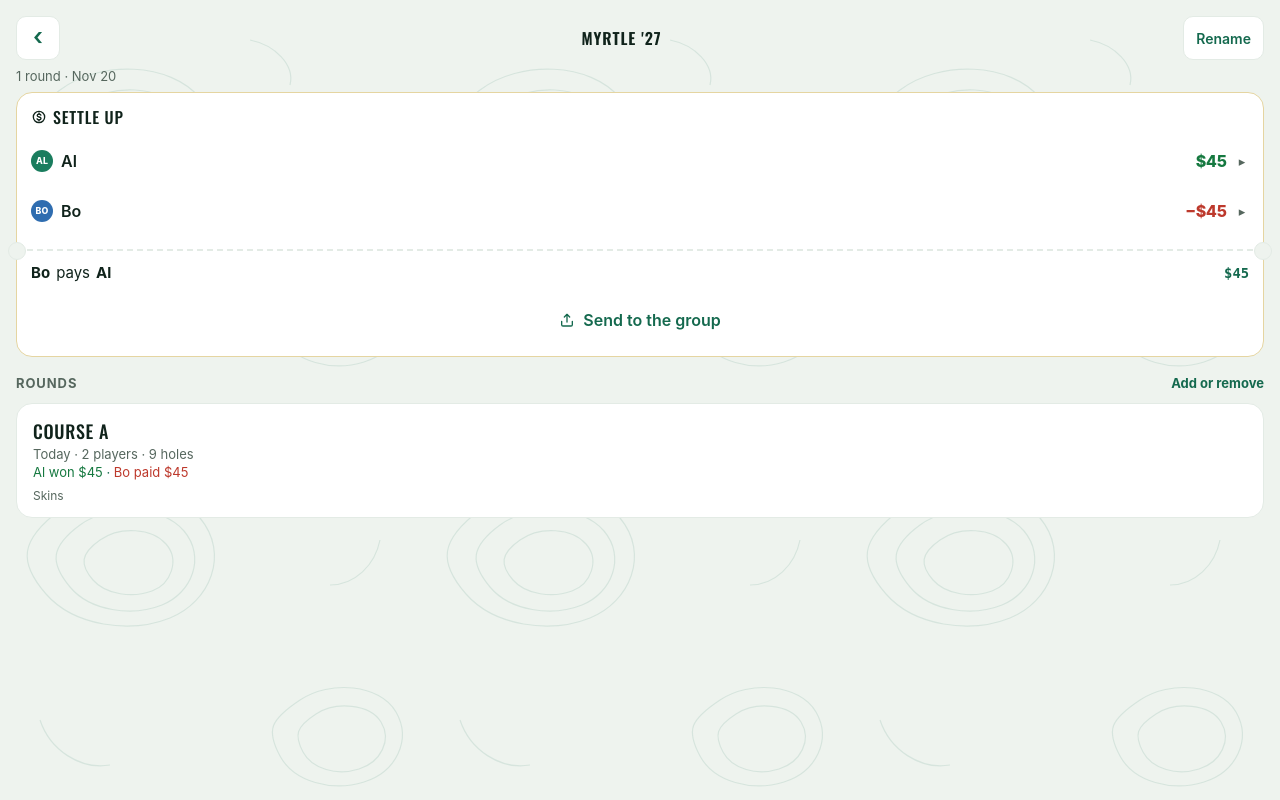
Test: Trip screen › will not take the last round off a trip
The image size is (1280, 800).
Click the button "Add or remove": [1218, 383] box [1165,369,1270,397]
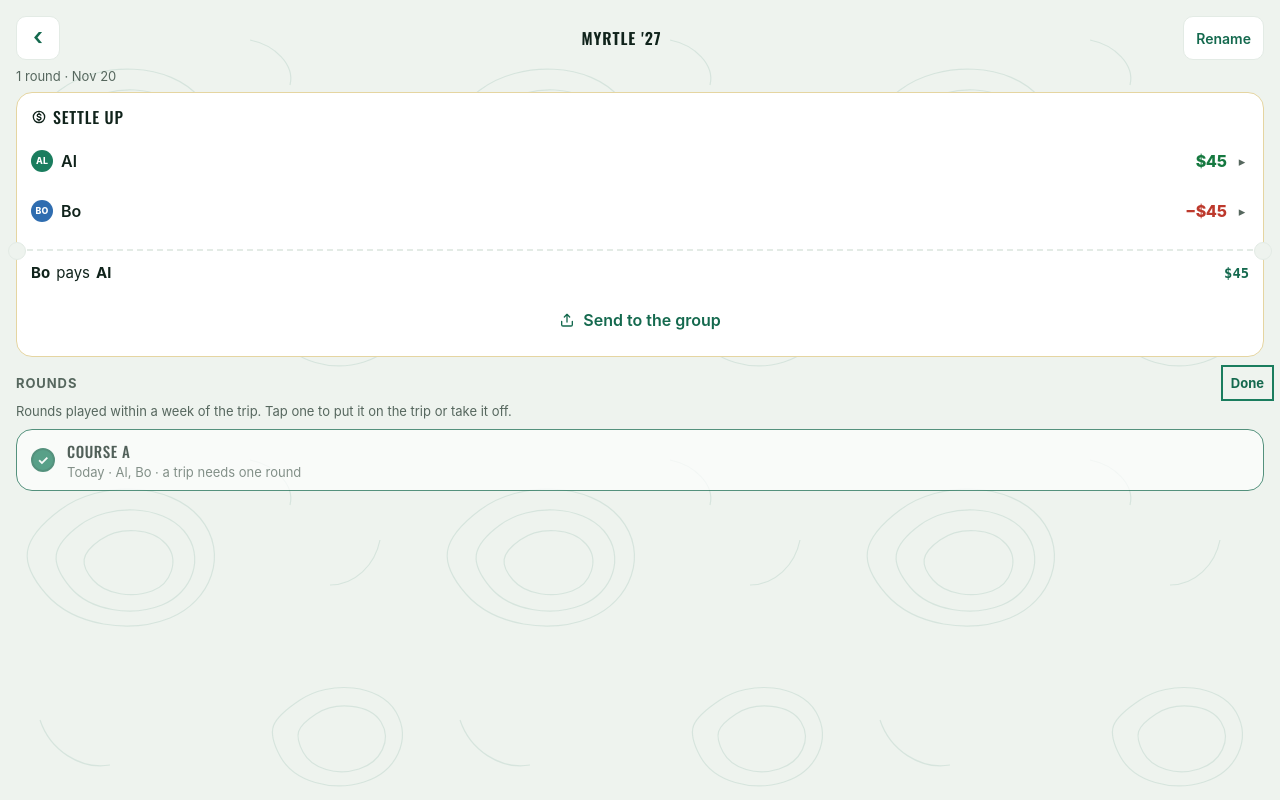
Now the button "✓ Course a Today · Al, Bo · a trip needs one round" is disabled, box [16,429,1264,491]
